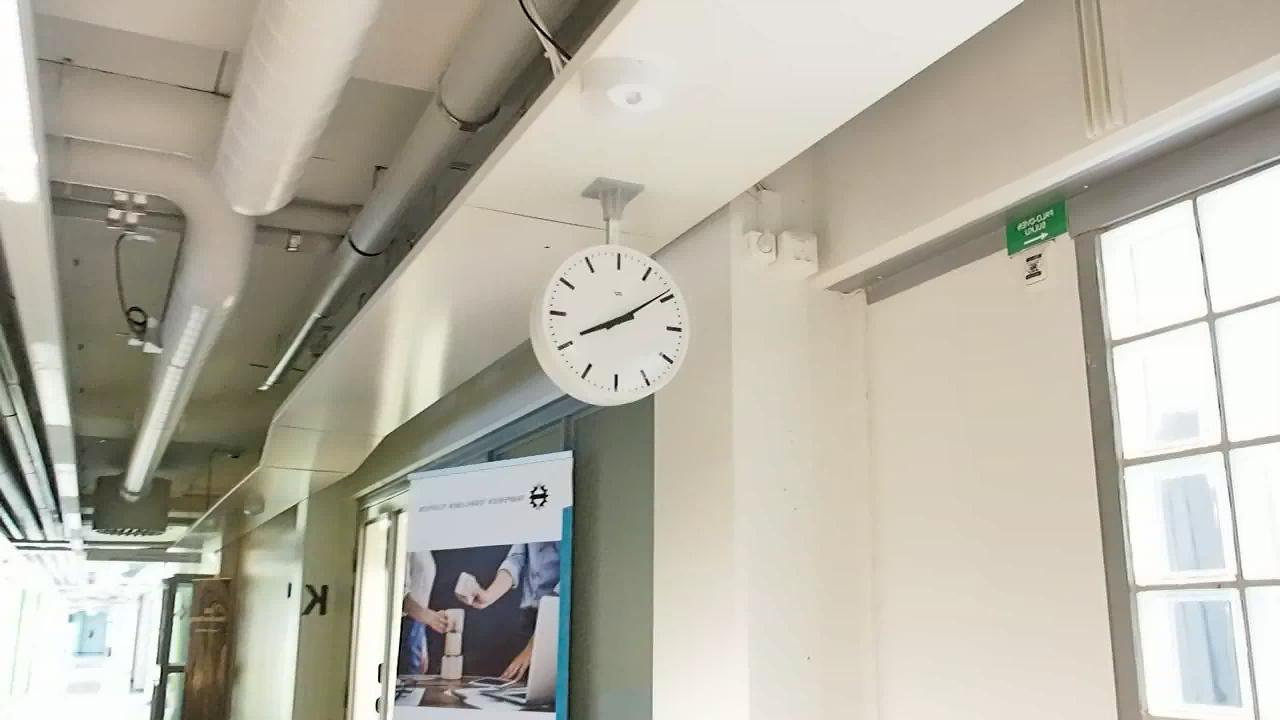clock: (531, 242, 692, 410)
